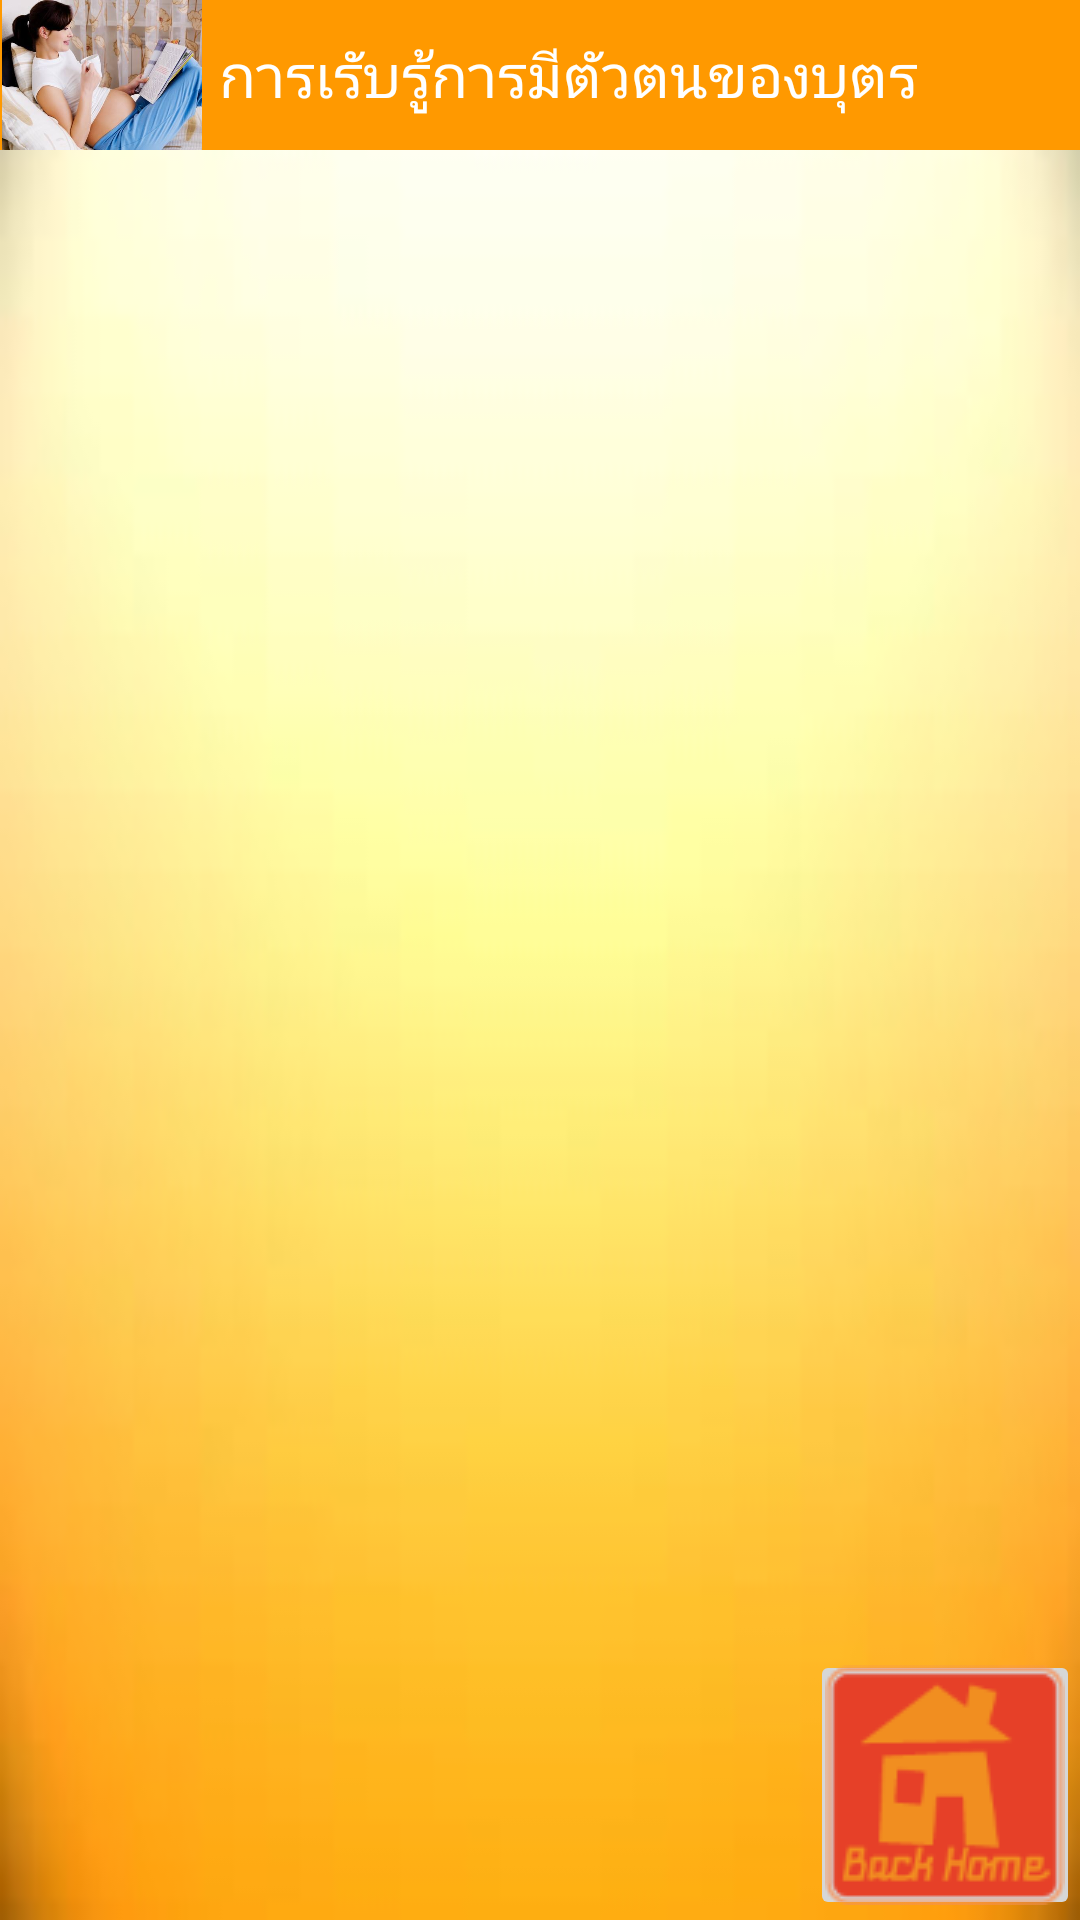

Named icons in this screenshot (1080px x 1920px) and their centers, (x=x, y=y):
mom: (x=102, y=75)
